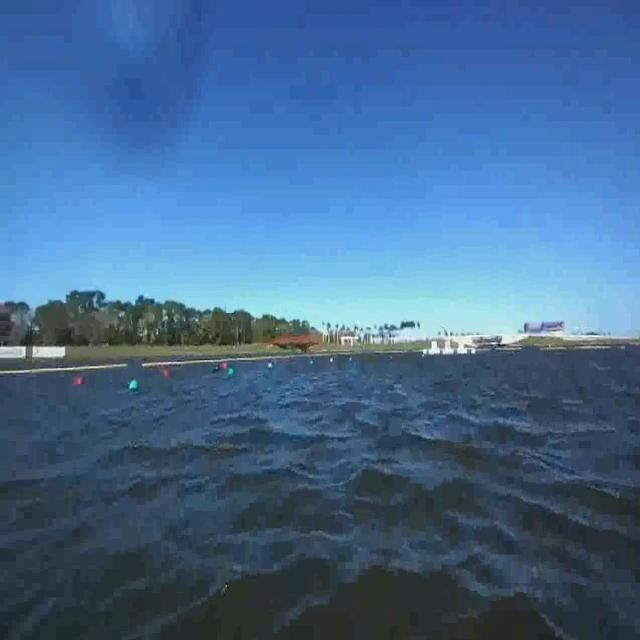green-buoy: (125, 377, 141, 397)
red-buoy: (71, 372, 87, 390)
